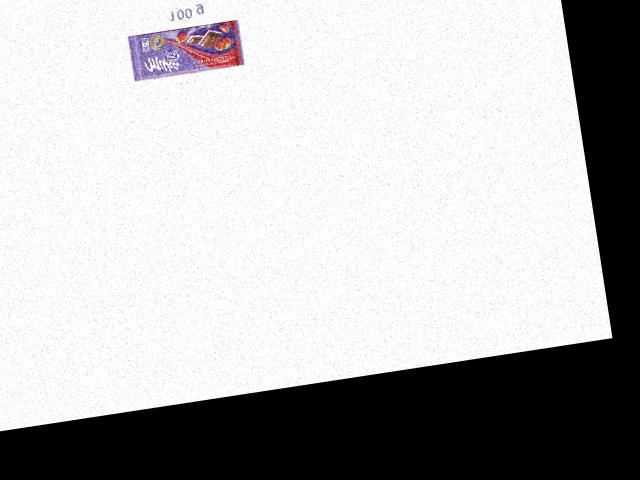chocolate: (127, 13, 245, 81)
